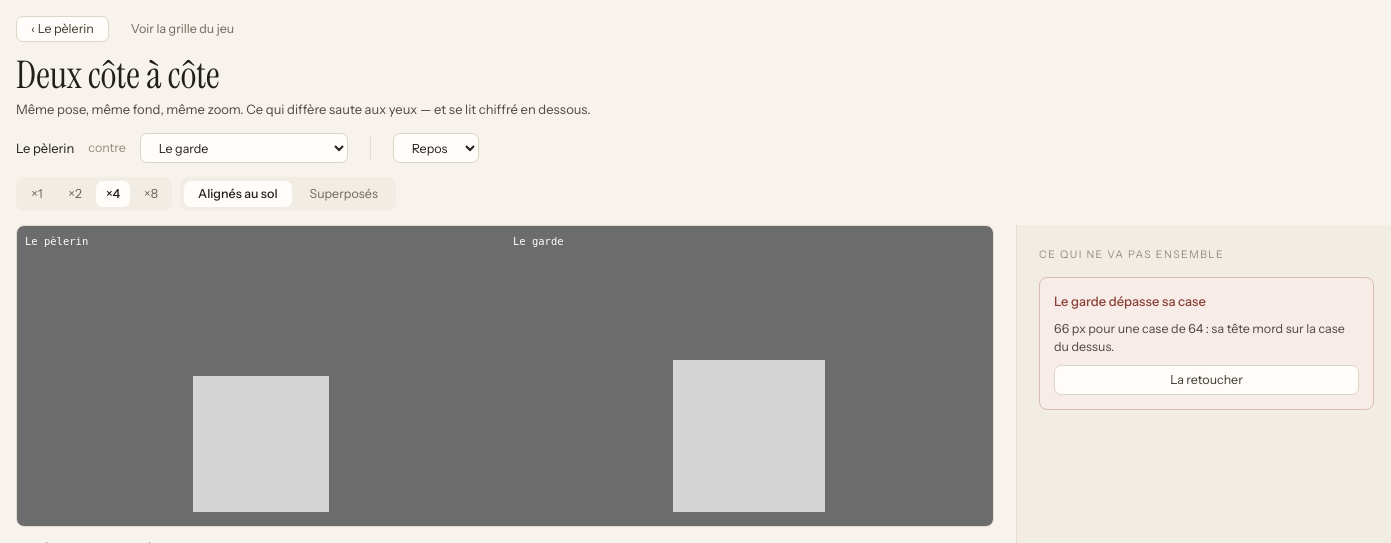
Test: deux animations côte à côte › l'écart des cadences et des sens se lit chiffré
The width and height of the screenshot is (1391, 543).
(page scrolled)
Select "Le pèlerin — ses animations" in the dropdown named "Comparer avec" at (244, 148), box [140,133,348,163]
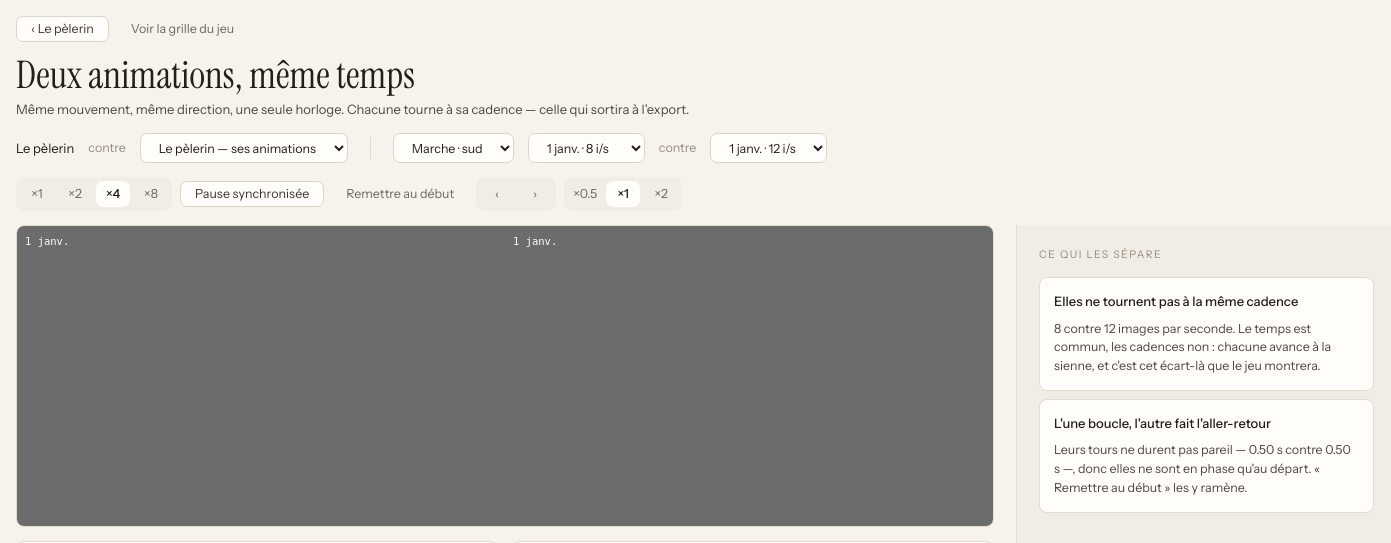
Check: the text "Elles ne tournent pas à la même cadence" is shown, box [1054,293,1298,309]
Check: the text "L'une boucle, l'autre fait l'aller-retour" is shown, box [1054,415,1271,431]
